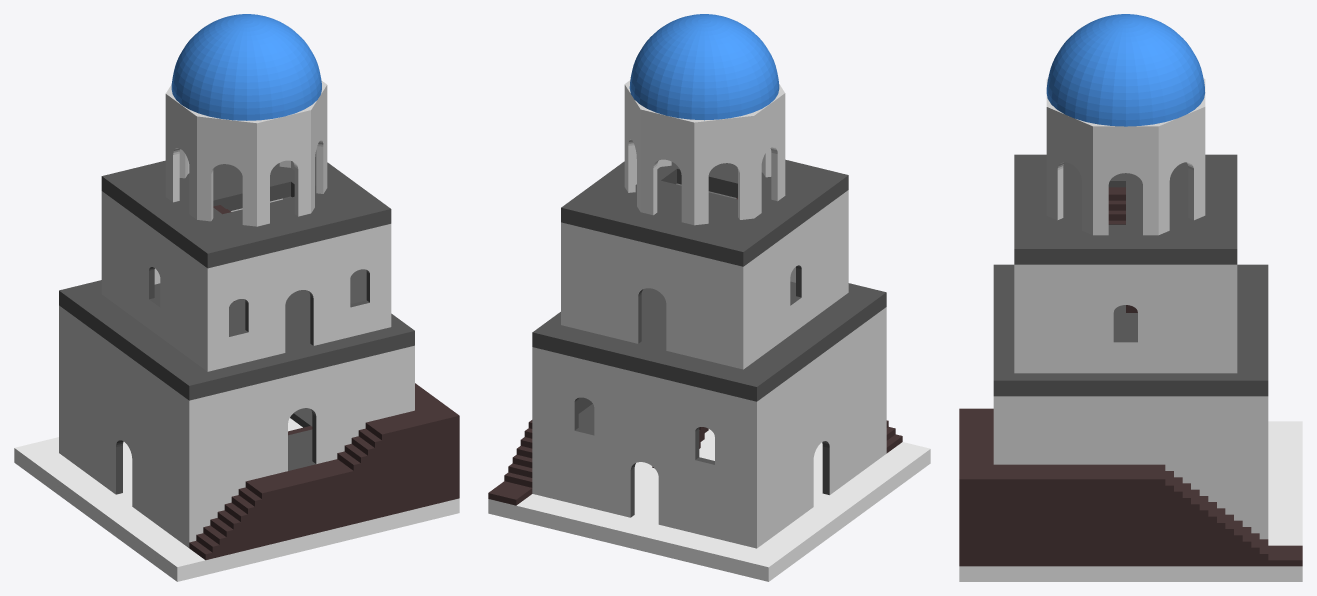
File: building.glb
3 renders of one model, left to right at view 1: azimuth 30°, elevation 25°; view 2: azimuth 150°, elevation 25°; view 3: azimuth 270°, elevation 25°, orthographic. The views are drawn at different scales.
Parts seen in each view (by area): view 1: Lvl1, Lvl2, Stairs-outside, Lvl3, Lvl4; view 2: Lvl1, Lvl2, Lvl3, Lvl4, Stairs-outside; view 3: Lvl1, Lvl2, Stairs-outside, Lvl4, Lvl3, stairs-lvl2.
Part boxes in pixels (bbox=[...]): Lvl1: bbox=[14, 280, 459, 581]; Lvl2: bbox=[101, 160, 391, 371]; Stairs-outside: bbox=[189, 383, 459, 560]; Lvl3: bbox=[165, 80, 327, 226]; Lvl4: bbox=[171, 14, 321, 120]; Lvl1: bbox=[488, 281, 930, 581]; Lvl2: bbox=[561, 159, 848, 369]; Lvl3: bbox=[624, 80, 785, 225]; Lvl4: bbox=[629, 14, 779, 120]; Stairs-outside: bbox=[488, 420, 902, 505]; Lvl1: bbox=[959, 264, 1302, 581]; Lvl2: bbox=[1014, 154, 1237, 373]; Stairs-outside: bbox=[959, 408, 1302, 566]; Lvl4: bbox=[1046, 14, 1205, 126]; Lvl3: bbox=[1046, 78, 1205, 235]; stairs-lvl2: bbox=[1108, 187, 1137, 312].
Bounding box in the file's own units: 10 × 15.8 × 10.
